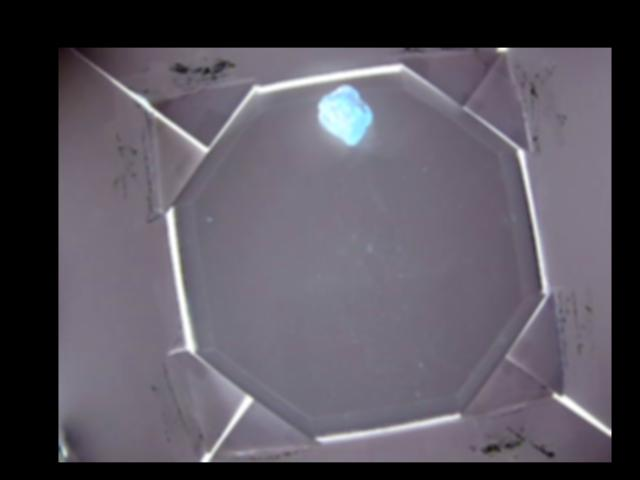Brisk: (318, 84, 372, 145)
